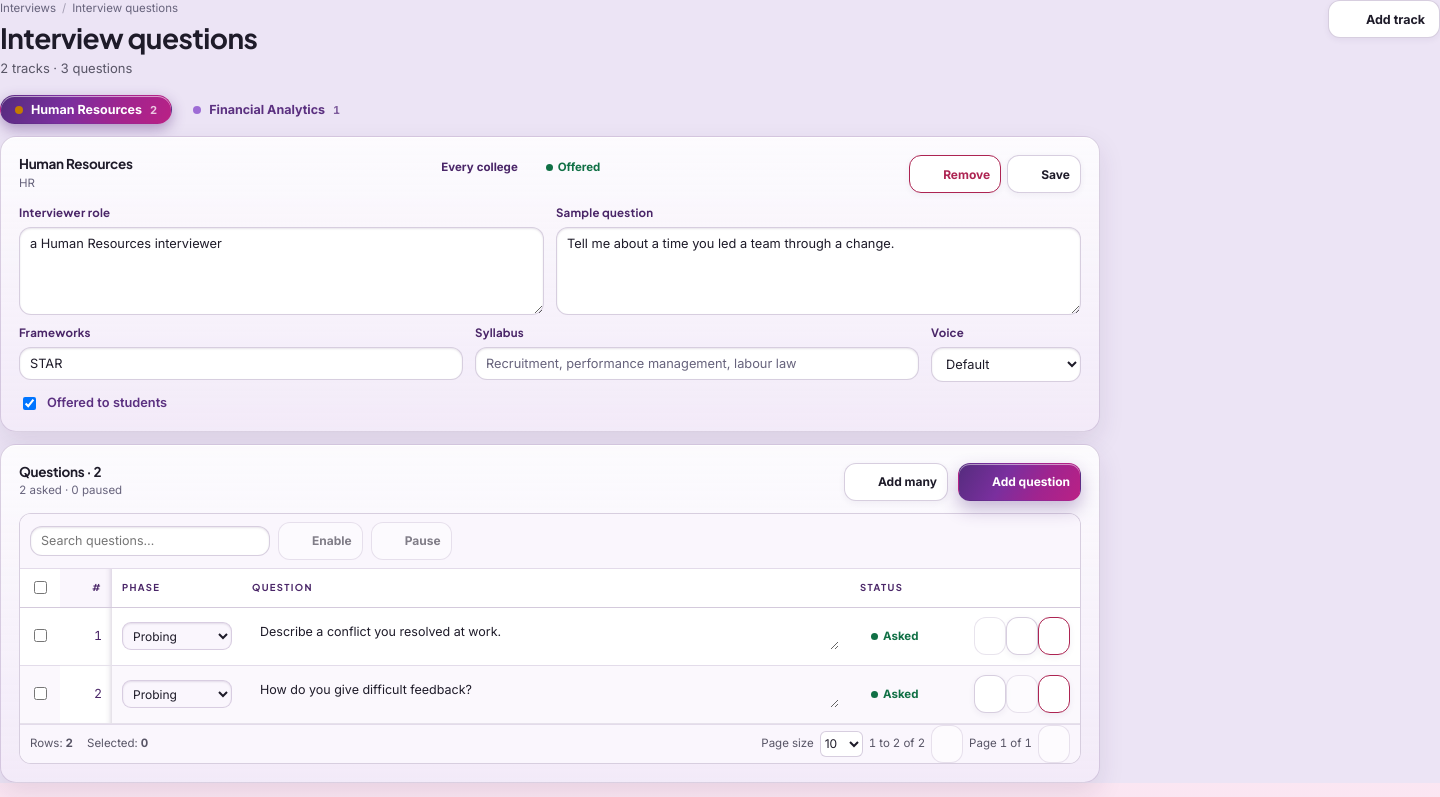
Test: Interview questions · a refused inline edit is put back › puts back a phase the server refused
Select "Deep dive" in the 1st dropdown with class "bank-phase-select" at (177, 636), box [122, 622, 232, 650]
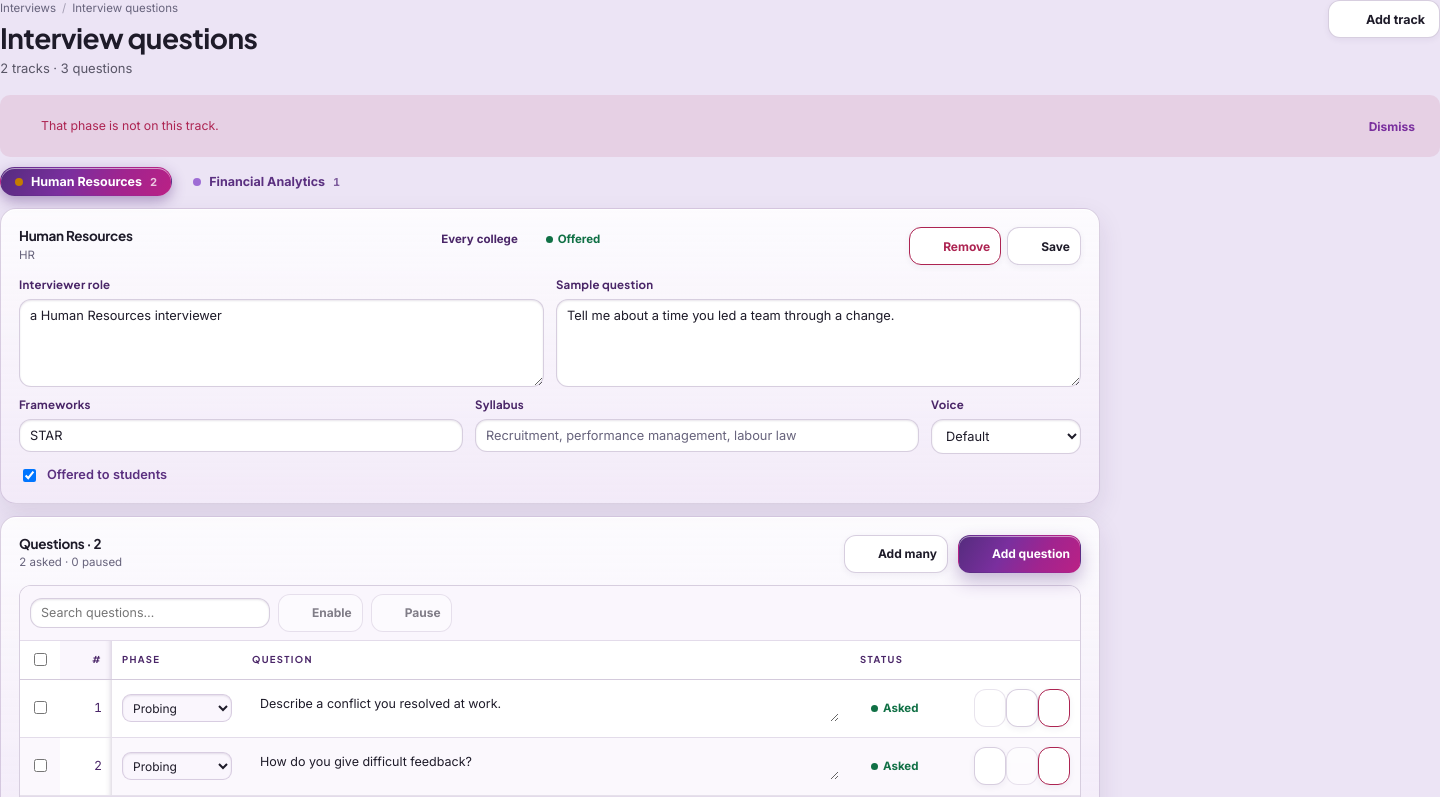
Check: the 1st dropdown with class "bank-phase-select" shows "Probing", box [122, 694, 232, 722]
Check: the text "That phase is not on this track." is shown, box [41, 117, 218, 136]
